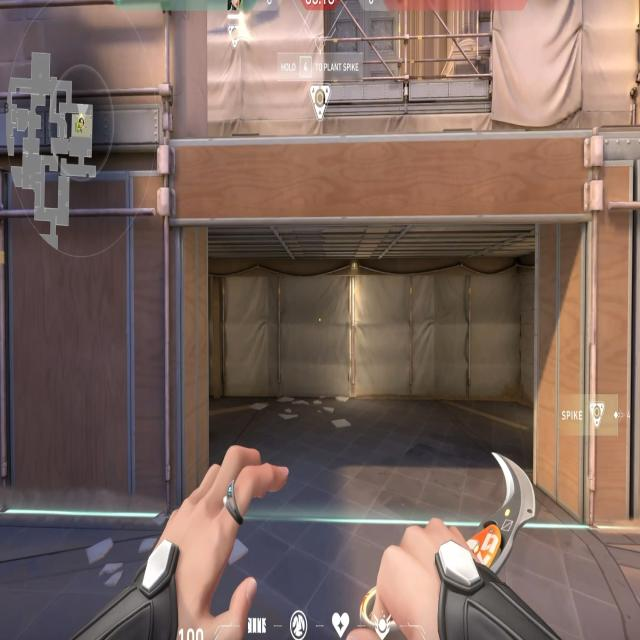A_Hell: (144, 129, 622, 557)
